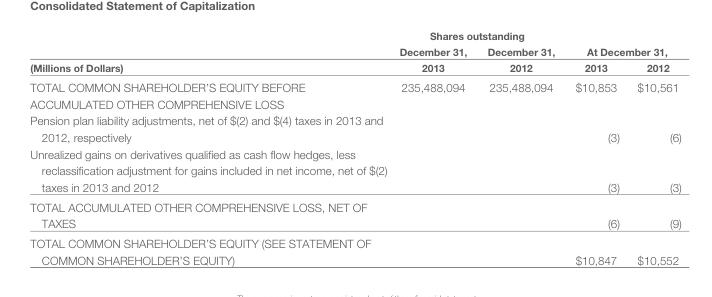table: (29, 28, 680, 266)
table column: (29, 28, 392, 266), (476, 28, 564, 266), (392, 28, 476, 266), (564, 28, 627, 266), (627, 28, 680, 266)
table column header: (29, 28, 680, 76)
table projected row header: (29, 95, 680, 111)
table row: (29, 144, 680, 196), (29, 196, 680, 232), (29, 232, 680, 266), (29, 111, 680, 144), (29, 76, 680, 95), (29, 59, 680, 76), (29, 43, 680, 59), (29, 95, 680, 111), (29, 28, 680, 43)
table spanning cell: (29, 28, 392, 76), (564, 28, 680, 59), (476, 43, 564, 76), (392, 43, 476, 76), (392, 28, 564, 43)
